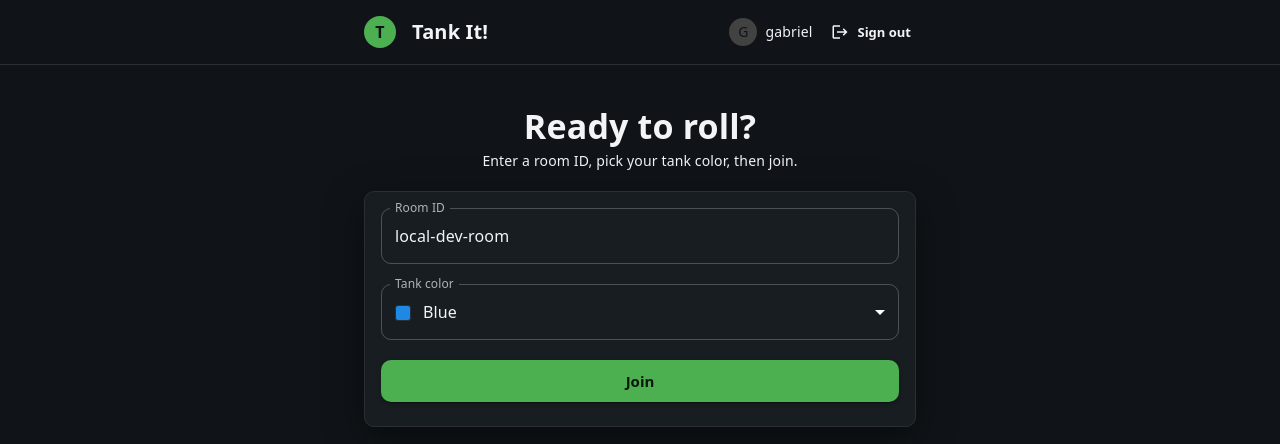
it: LobbyScreen › joins the default room and marks me in the player list
The image size is (1280, 444).
Click the button "Join" at (640, 381), box [381,360,899,402]
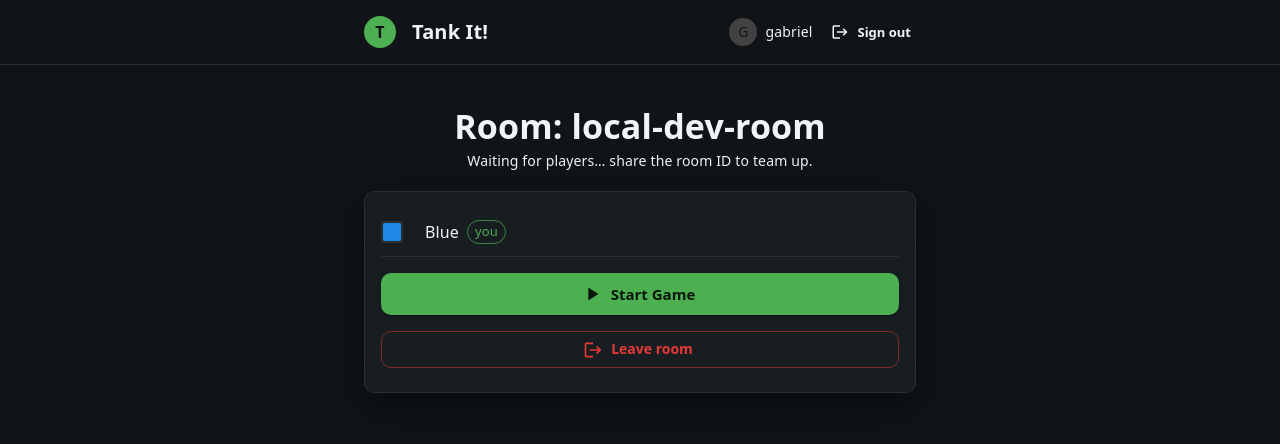
expect the text "Blue" is shown: met, box [425,220,459,244]
expect the text "join" is gone: met
